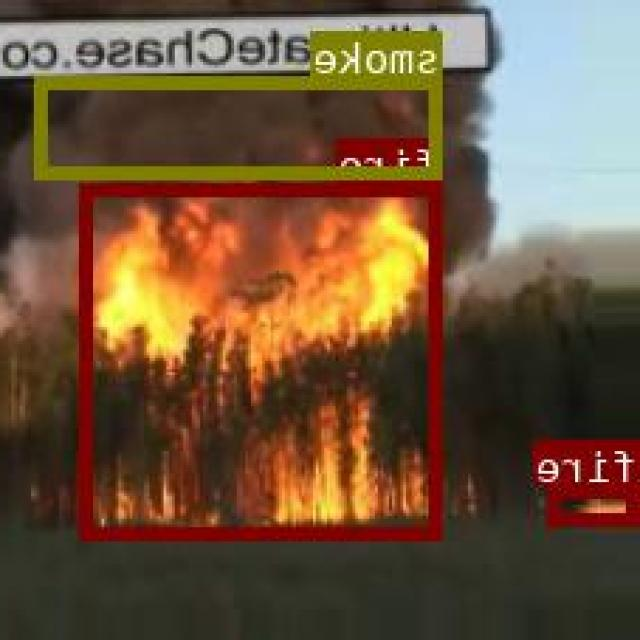fire: (83, 182, 444, 536), (550, 484, 640, 523)
smoke: (39, 74, 443, 175)
